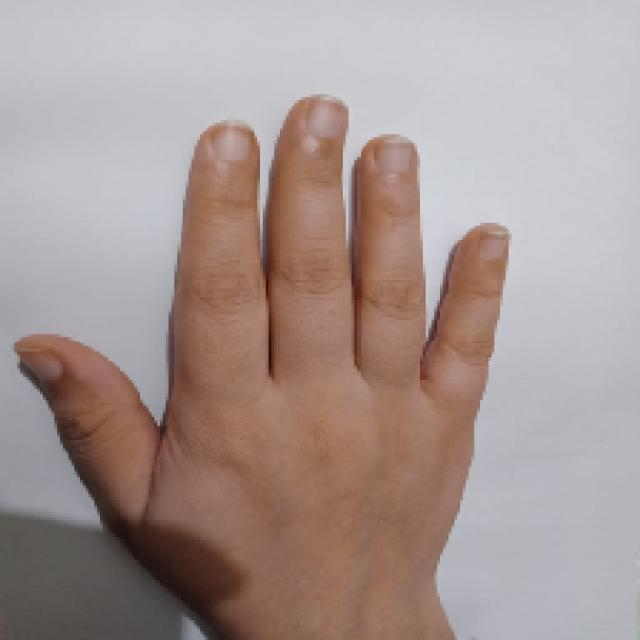Nail: (308, 97, 348, 138), (16, 351, 62, 383), (212, 126, 251, 163), (376, 136, 415, 172), (479, 233, 511, 259)
